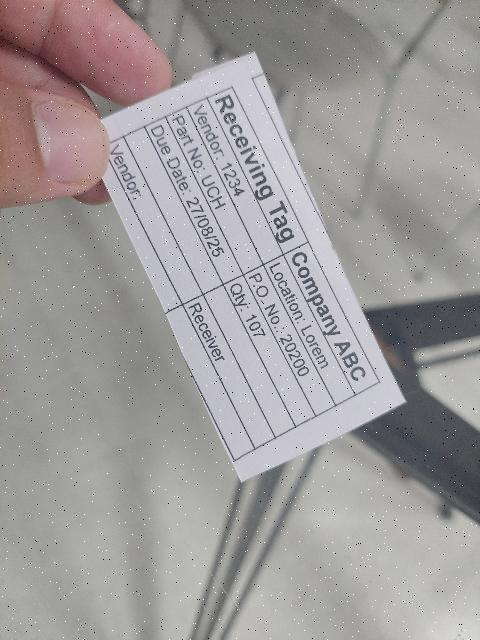PO no: (243, 263, 337, 417)
part no: (164, 107, 263, 276)
qty: (223, 274, 317, 427)
tags: (100, 53, 405, 485)
